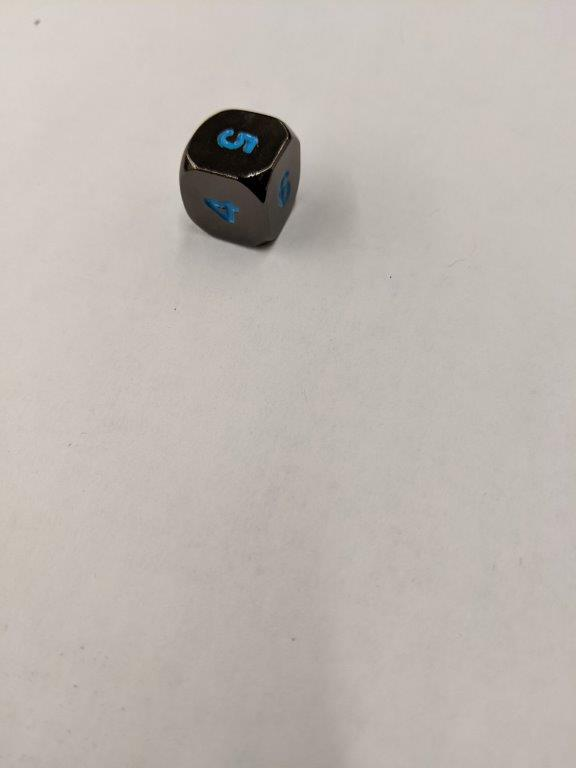d6-5: (178, 109, 304, 248)
